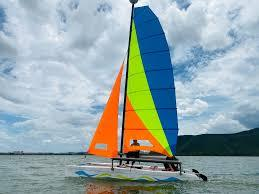Ship: (63, 5, 209, 186)
